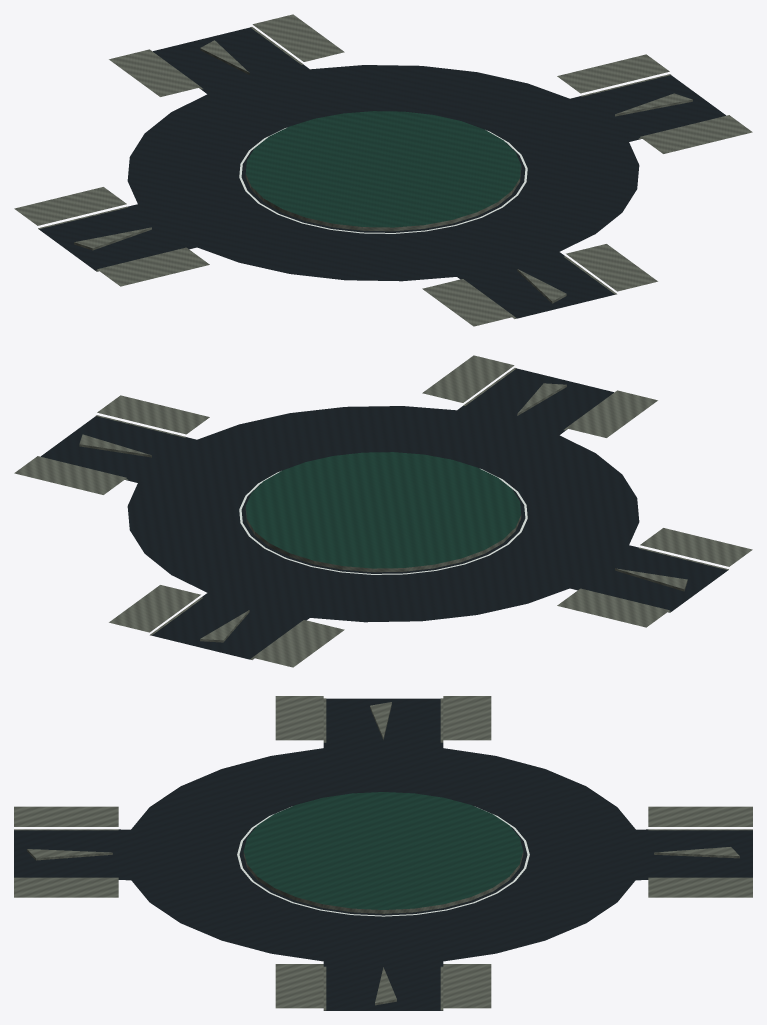
Rendered from junc_roundabout_1lane_LOD2.glb.
3 renders of one model, top to bottom at view 1: azimuth 30°, elevation 25°; view 2: azimuth 150°, elevation 25°; view 3: azimuth 270°, elevation 25°, orthographic.
Parts seen in each view (by area): view 1: junc_roundabout_1lane__surface.002, junc_roundabout_1lane__center_island.002, junc_roundabout_1lane__entry_ports.002, junc_roundabout_1lane__entry_sidewalks.002, junc_roundabout_1lane__splitter_islands.002; view 2: junc_roundabout_1lane__surface.002, junc_roundabout_1lane__center_island.002, junc_roundabout_1lane__entry_ports.002, junc_roundabout_1lane__entry_sidewalks.002, junc_roundabout_1lane__splitter_islands.002; view 3: junc_roundabout_1lane__surface.002, junc_roundabout_1lane__center_island.002, junc_roundabout_1lane__entry_ports.002, junc_roundabout_1lane__entry_sidewalks.002, junc_roundabout_1lane__splitter_islands.002.
Part boxes in pixels (<box>): junc_roundabout_1lane__surface.002: <box>127,65,639,281</box>; junc_roundabout_1lane__center_island.002: <box>239,111,527,233</box>; junc_roundabout_1lane__entry_ports.002: <box>39,27,725,318</box>; junc_roundabout_1lane__entry_sidewalks.002: <box>14,14,752,326</box>; junc_roundabout_1lane__splitter_islands.002: <box>74,40,692,303</box>; junc_roundabout_1lane__surface.002: <box>127,406,639,622</box>; junc_roundabout_1lane__center_island.002: <box>239,452,527,574</box>; junc_roundabout_1lane__entry_ports.002: <box>41,368,727,659</box>; junc_roundabout_1lane__entry_sidewalks.002: <box>14,355,752,667</box>; junc_roundabout_1lane__splitter_islands.002: <box>79,383,687,642</box>; junc_roundabout_1lane__surface.002: <box>124,745,642,964</box>; junc_roundabout_1lane__center_island.002: <box>237,792,529,916</box>; junc_roundabout_1lane__entry_ports.002: <box>14,698,752,1010</box>; junc_roundabout_1lane__entry_sidewalks.002: <box>14,696,752,1010</box>; junc_roundabout_1lane__splitter_islands.002: <box>27,702,739,1005</box>.
Bounding box in the file's own units: 37 × 0.214 × 37.
5 materials, 4 textured.
